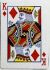king: (1, 1, 48, 69)
